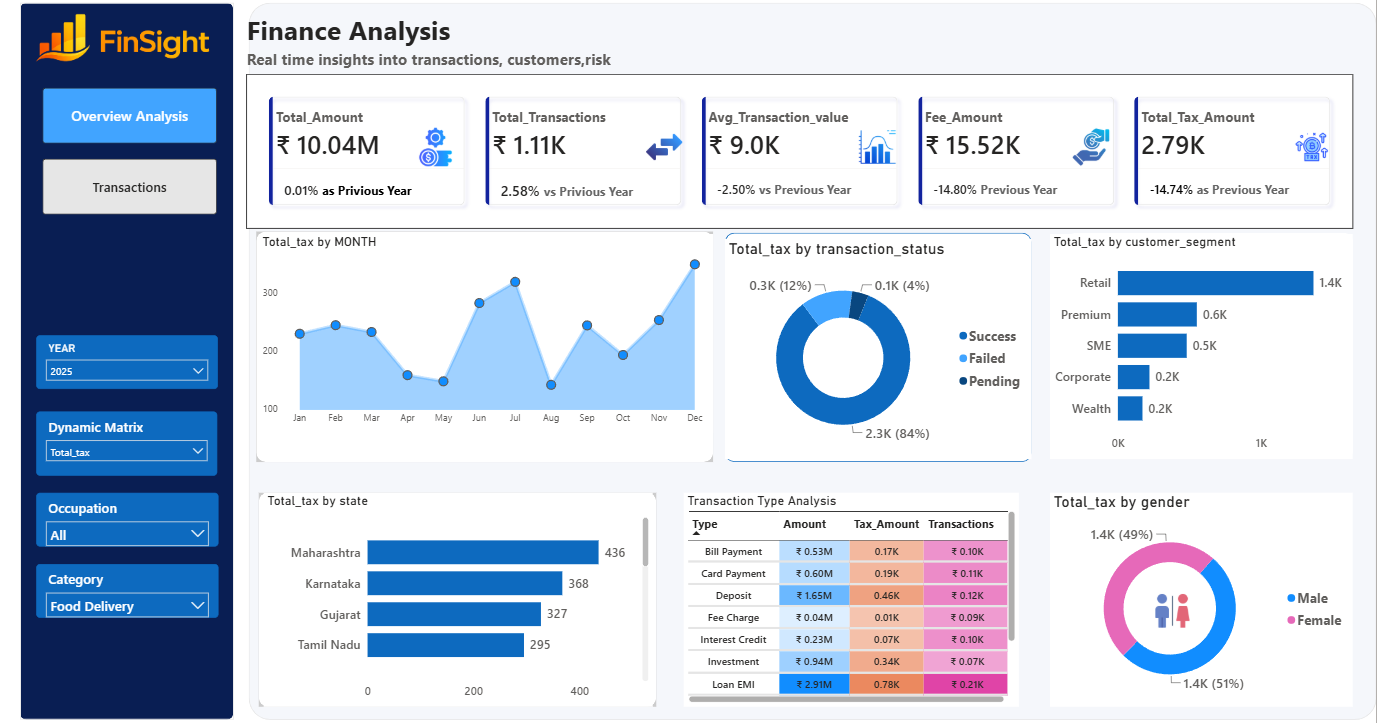

The page's visual inventory and layout, read from the dashboard file:
{"tool":"powerbi","page":{"name":"Overview Analysis","canvas":[1800,950],"ordinal":0},"visuals":[{"type":"shape","box":[26.9,5.1,279,938.1],"z":0},{"type":"shape","box":[325,5.1,1475.3,938.1],"z":1000},{"type":"image","box":[26.9,5.1,274.5,92.6],"z":2000},{"type":"cardVisual","fields":{"Data":["calander__table.dashboard title"]},"box":[306.5,0,547.3,107.8],"z":3000},{"type":"cardVisual","fields":{"Data":["finance_transactions.TotalAmount","finance_transactions.Total Transactions","calander__table.AvgTransaction value","Sum(finance_transactions.fee_amount)","finance_transactions.Total_Tax_Amount"]},"box":[321.7,97.7,1448.4,202.1],"z":4000},{"type":"slicer","fields":{"Values":["calander__table.YEAR"]},"box":[47.2,439.6,237.5,70.7],"z":5000},{"type":"image","box":[544.5,168.6,50.7,50.7],"z":6000},{"type":"image","box":[844.4,168.6,50.7,50.7],"z":7000},{"type":"image","box":[1391.9,168.6,71.6,50.7],"z":8000},{"type":"image","box":[1117.4,168.6,61.2,50.7],"z":9000},{"type":"image","box":[1690.3,168.6,50.7,50.7],"z":10000},{"type":"slicer","fields":{"Values":["Dynamic Matrix.Dynamic Matrix"]},"box":[48.1,538.9,236.8,84.1],"z":11000},{"type":"shape","box":[335.1,304.8,597.9,301.5],"z":12000},{"type":"areaChart","fields":{"Y":["calander__table.Total_tax"],"Category":["calander__table.MONTH"]},"box":[338.5,308.2,594.5,259.4],"z":13000},{"type":"shape","box":[948.2,306.5,400.8,299.8],"z":14000},{"type":"donutChart","fields":{"Y":["calander__table.Total_tax"],"Category":["finance_transactions.transaction_status"]},"box":[948.4,314,400.6,287.8],"z":15000},{"type":"shape","box":[1394.5,306.5,375.6,296.4],"z":16000},{"type":"barChart","fields":{"Y":["calander__table.Total_tax"],"Category":["customers.customer_segment"]},"box":[1374.3,308.2,395.8,294.7],"z":17000},{"type":"shape","box":[338.5,645.9,520,279.6],"z":18000},{"type":"barChart","fields":{"Y":["calander__table.Total_tax"],"Category":["customers.state"]},"box":[345,645.9,508.5,279.6],"z":19000},{"type":"tableEx","title":"Transaction Type Analysis","fields":{"Values":["finance_transactions.transaction_type","finance_transactions.TotalAmount","finance_transactions.Total_Tax_Amount","finance_transactions.Total Transactions"]},"box":[894.4,645.9,438.2,279.6],"z":20000},{"type":"donutChart","fields":{"Y":["calander__table.Total_tax"],"Category":["customers.gender"]},"box":[1373.6,645.9,395.7,279.6],"z":21000},{"type":"image","box":[1497.8,775.1,71.9,50.7],"z":22000},{"type":"slicer","fields":{"Values":["customers.occupation"]},"box":[48.1,645.3,238.6,70.4],"z":23000},{"type":"slicer","fields":{"Values":["finance_transactions.merchant_category"]},"box":[48.1,739.7,238.6,70.4],"z":24000},{"type":"pageNavigator","box":[54.9,116.7,228.3,166.5],"z":25000}]}

Visuals, with their boxes in screenshot pixels (x1, y1, x2, y2), scaled from the page's 1800x950 canvas onto the 1380x723 screenshot:
shape: <bbox>21, 4, 235, 718</bbox>
shape: <bbox>249, 4, 1379, 718</bbox>
image: <bbox>21, 4, 231, 74</bbox>
cardVisual - calander__table.dashboard title: <bbox>235, 0, 655, 82</bbox>
cardVisual - finance_transactions.TotalAmount x finance_transactions.Total Transactions: <bbox>247, 74, 1357, 228</bbox>
slicer - calander__table.YEAR: <bbox>36, 335, 218, 388</bbox>
image: <bbox>417, 128, 456, 167</bbox>
image: <bbox>647, 128, 686, 167</bbox>
image: <bbox>1067, 128, 1122, 167</bbox>
image: <bbox>857, 128, 904, 167</bbox>
image: <bbox>1296, 128, 1335, 167</bbox>
slicer - Dynamic Matrix.Dynamic Matrix: <bbox>37, 410, 218, 474</bbox>
shape: <bbox>257, 232, 715, 461</bbox>
areaChart - calander__table.Total_tax x calander__table.MONTH: <bbox>260, 235, 715, 432</bbox>
shape: <bbox>727, 233, 1034, 461</bbox>
donutChart - calander__table.Total_tax x finance_transactions.transaction_status: <bbox>727, 239, 1034, 458</bbox>
shape: <bbox>1069, 233, 1357, 459</bbox>
barChart - calander__table.Total_tax x customers.customer_segment: <bbox>1054, 235, 1357, 459</bbox>
shape: <bbox>260, 492, 658, 704</bbox>
barChart - calander__table.Total_tax x customers.state: <bbox>264, 492, 654, 704</bbox>
"Transaction Type Analysis" tableEx: <bbox>686, 492, 1022, 704</bbox>
donutChart - calander__table.Total_tax x customers.gender: <bbox>1053, 492, 1356, 704</bbox>
image: <bbox>1148, 590, 1203, 628</bbox>
slicer - customers.occupation: <bbox>37, 491, 220, 545</bbox>
slicer - finance_transactions.merchant_category: <bbox>37, 563, 220, 617</bbox>
pageNavigator: <bbox>42, 89, 217, 216</bbox>
